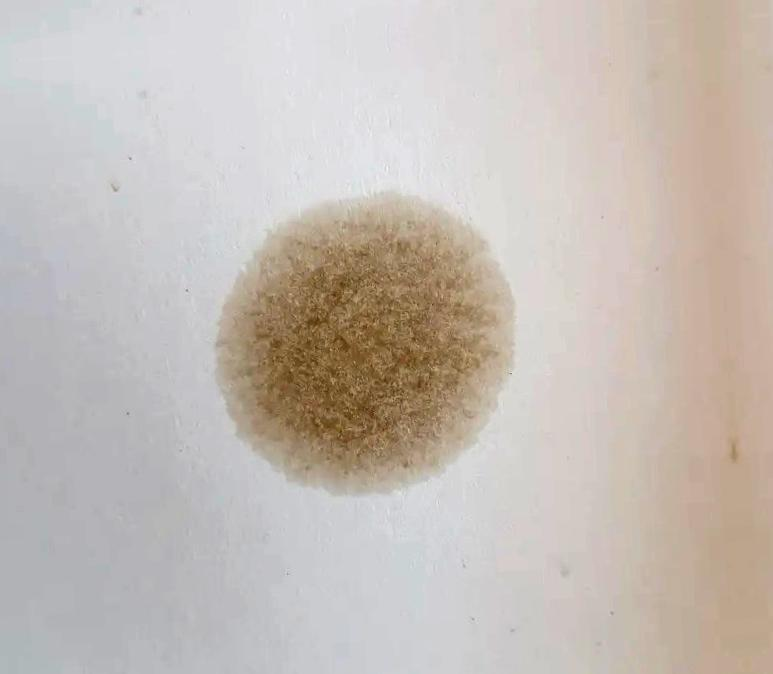stain: (205, 187, 521, 508)
